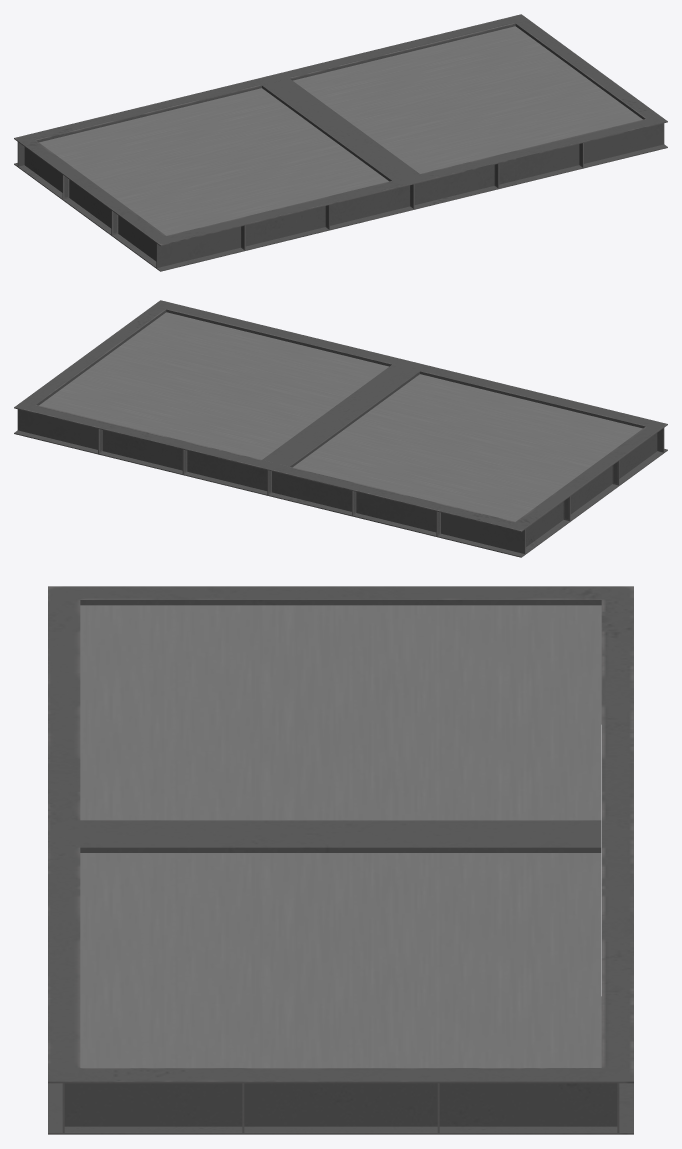
File: SM05_Architecture_MezzanineFloor_01_Straight_02.fbx
The picture shows the model from 3 angles, top to bottom: view 1: azimuth 30°, elevation 25°; view 2: azimuth 150°, elevation 25°; view 3: azimuth 270°, elevation 25°; orthographic projection. The views are drawn at different scales.
Visible parts, largest first — view 1: SM05_Architecture_MezzanineFloor_01_Straight_02; view 2: SM05_Architecture_MezzanineFloor_01_Straight_02; view 3: SM05_Architecture_MezzanineFloor_01_Straight_02.
Boxes of the visible parts, x1,y1,x2,y2 form: SM05_Architecture_MezzanineFloor_01_Straight_02: (14,14,667,271); SM05_Architecture_MezzanineFloor_01_Straight_02: (14,300,667,557); SM05_Architecture_MezzanineFloor_01_Straight_02: (48,586,633,1134).
Bounding box in the file's own units: 2 × 0.1 × 1.
